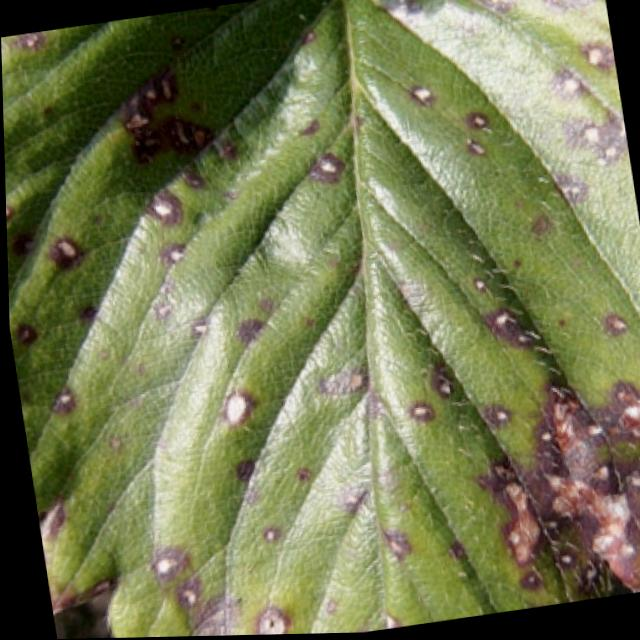Leaf Spot: (1, 0, 640, 638)
